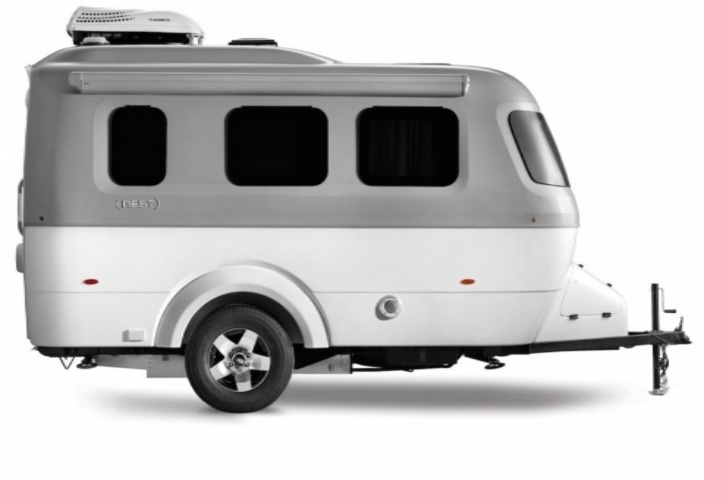van: (20, 7, 687, 443)
